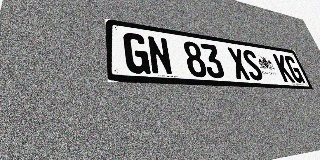3: (200, 43, 226, 79)
8: (182, 40, 208, 78)
G: (123, 32, 151, 74), (283, 55, 305, 83)
K: (272, 54, 295, 82)
N: (146, 35, 174, 76)
S: (241, 49, 265, 81)
X: (226, 47, 251, 80)
